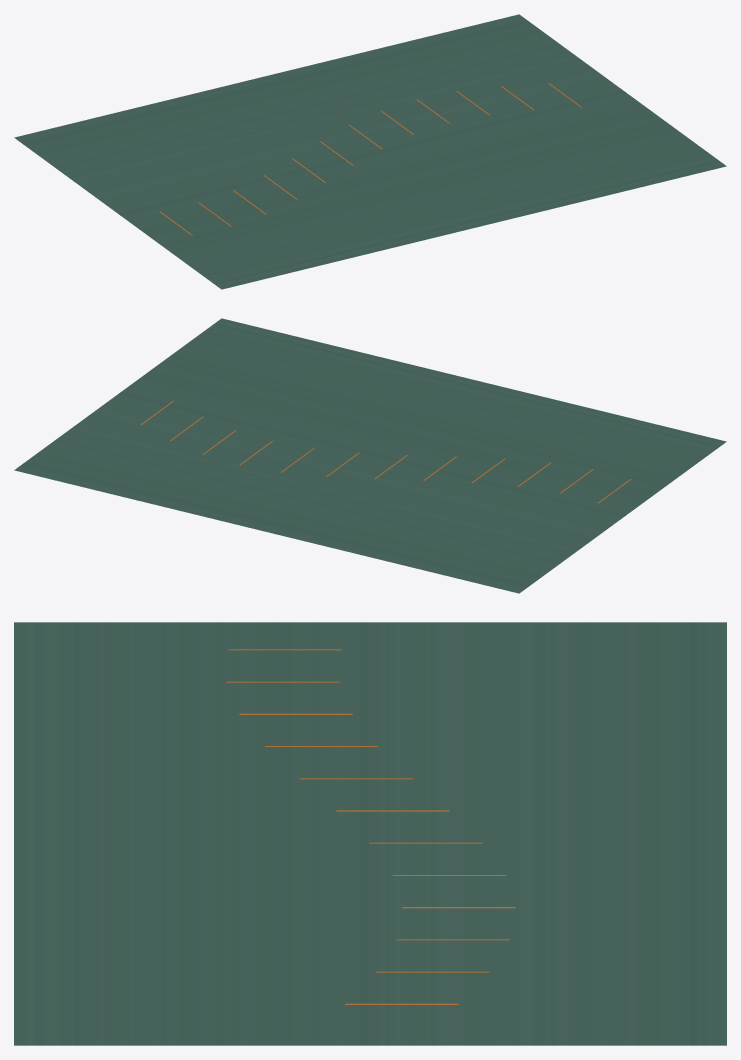
Rendered from 251_L119_L2_LayerReference.obj.
3 renders of one model, top to bottom at view 1: azimuth 30°, elevation 25°; view 2: azimuth 150°, elevation 25°; view 3: azimuth 270°, elevation 25°, orthographic. The views are drawn at different scales.
Visible parts, largest first — view 1: 251_L119_L2_LayerReference; view 2: 251_L119_L2_LayerReference; view 3: 251_L119_L2_LayerReference.
Part boxes in pixels (bbox=[...]): 251_L119_L2_LayerReference: bbox=[14, 14, 726, 289]; 251_L119_L2_LayerReference: bbox=[14, 318, 726, 593]; 251_L119_L2_LayerReference: bbox=[14, 622, 726, 1045].
Bounding box in the file's own units: 0.486 × 0.000208 × 0.346.
Materials: 2 (2 with a texture image).
